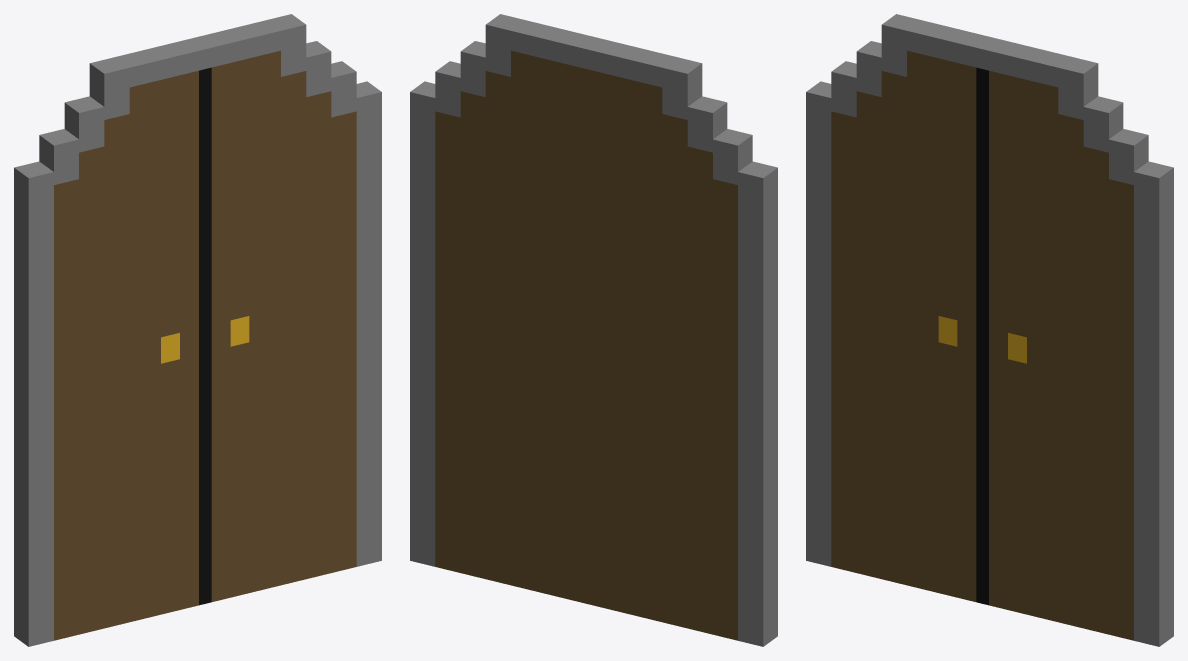
The model's file is ThroneRoom-Door.obj.
The picture shows the model from 3 angles, left to right: view 1: azimuth 30°, elevation 25°; view 2: azimuth 150°, elevation 25°; view 3: azimuth 330°, elevation 25°; orthographic projection.
Size of the model in its own units: 5.6 by 8.4 by 0.4.
1 material, 1 textured.
